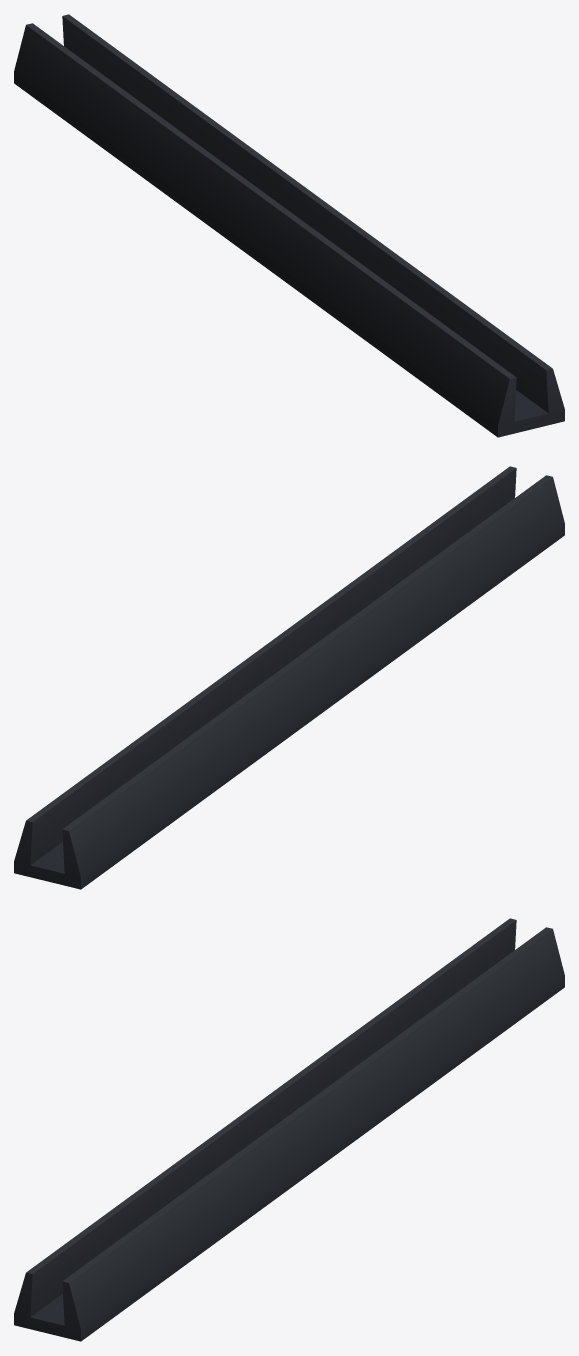
File: Card_Stand.fbx
The picture shows the model from 3 angles, top to bottom: view 1: azimuth 30°, elevation 25°; view 2: azimuth 150°, elevation 25°; view 3: azimuth 330°, elevation 25°; orthographic projection.
Visible parts, largest first — view 1: Card_Stand; view 2: Card_Stand; view 3: Card_Stand.
Part boxes in pixels (left/top/right/bottom): Card_Stand: left=14, top=14, right=564, bottom=437; Card_Stand: left=14, top=466, right=564, bottom=889; Card_Stand: left=14, top=918, right=564, bottom=1341.
Size of the model in its own units: 40.33 by 31.96 by 504.
